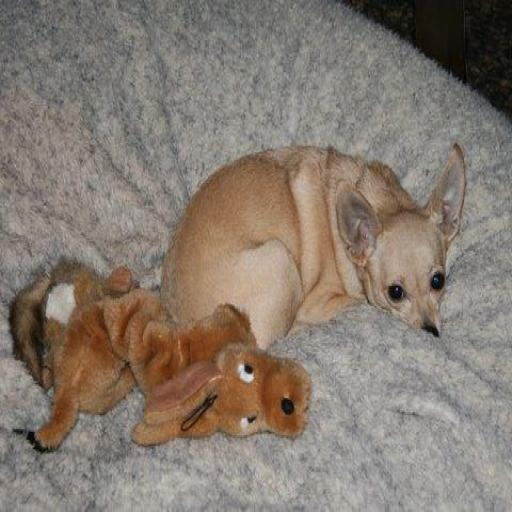dog_face: (342, 135, 468, 343)
